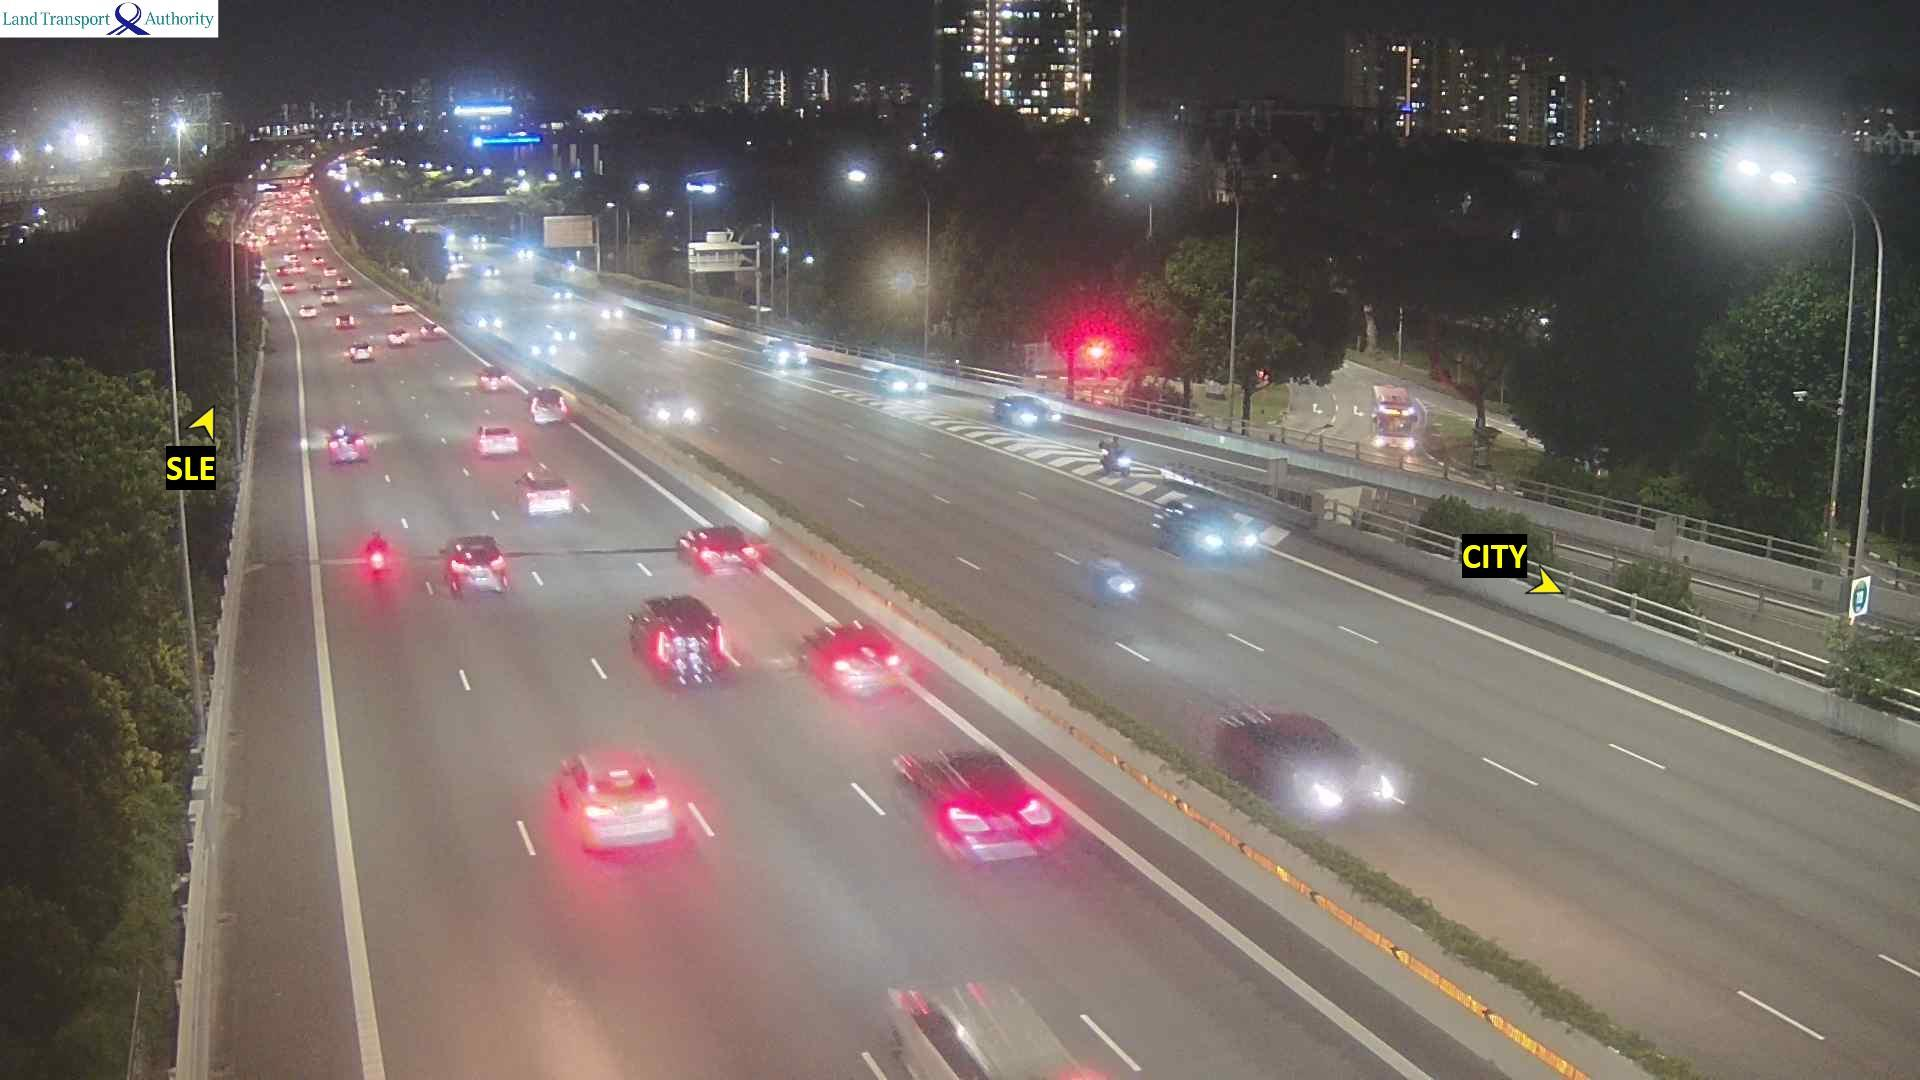cars: (1209, 703, 1404, 820), (884, 976, 1102, 1077), (891, 745, 1065, 866), (553, 748, 676, 853), (625, 592, 731, 688), (799, 618, 907, 700), (1150, 497, 1261, 559), (1717, 131, 1811, 196), (676, 524, 766, 575), (442, 533, 508, 595), (514, 462, 574, 516), (1087, 555, 1139, 605), (992, 393, 1058, 429), (642, 389, 700, 429), (326, 425, 369, 464), (527, 385, 570, 425), (761, 336, 808, 371), (473, 423, 518, 458), (874, 367, 927, 396), (361, 530, 390, 578), (1098, 435, 1131, 475), (525, 338, 563, 365), (543, 319, 578, 345), (469, 309, 509, 331), (665, 318, 695, 342), (595, 301, 628, 322), (476, 367, 502, 392), (545, 285, 576, 305), (345, 340, 373, 361), (386, 324, 411, 345), (316, 287, 340, 307), (419, 323, 443, 343), (513, 243, 535, 262), (479, 262, 504, 280), (447, 249, 469, 266), (468, 231, 489, 248), (334, 313, 356, 328), (334, 274, 353, 290), (297, 302, 316, 316), (390, 302, 410, 316), (306, 276, 323, 291), (280, 281, 298, 294), (248, 237, 265, 251), (291, 262, 306, 276), (298, 239, 313, 252), (323, 266, 339, 278), (274, 266, 291, 277), (311, 255, 326, 266), (282, 251, 297, 262), (316, 232, 330, 243), (299, 222, 314, 231), (289, 256, 301, 266), (265, 237, 277, 248), (281, 218, 294, 227), (297, 233, 309, 243), (276, 224, 286, 233), (311, 227, 323, 235), (295, 227, 306, 235)
trucks: (1369, 382, 1423, 450), (264, 223, 278, 239)
